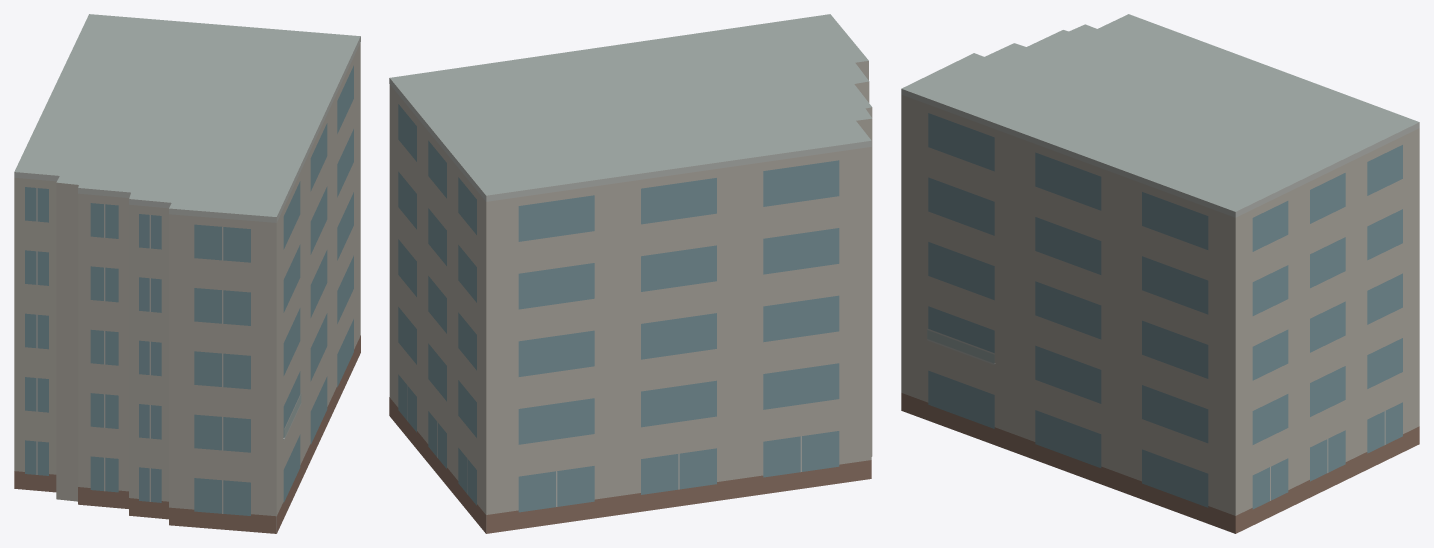
File: survey-upis-33006894.glb
3 views of the same model, side by side, from view 1: azimuth 30°, elevation 25°; view 2: azimuth 150°, elevation 25°; view 3: azimuth 270°, elevation 25° (orthographic). The views are drawn at different scales.
Visible parts, largest first — view 1: survey-upis-33006894.tmp; view 2: survey-upis-33006894.tmp; view 3: survey-upis-33006894.tmp.
Part boxes in pixels (x1,y1,x2,y2): survey-upis-33006894.tmp: (14, 14, 360, 533); survey-upis-33006894.tmp: (389, 14, 872, 533); survey-upis-33006894.tmp: (901, 14, 1419, 533).
Size of the model in its own units: 17.67 by 13.4 by 19.56.
